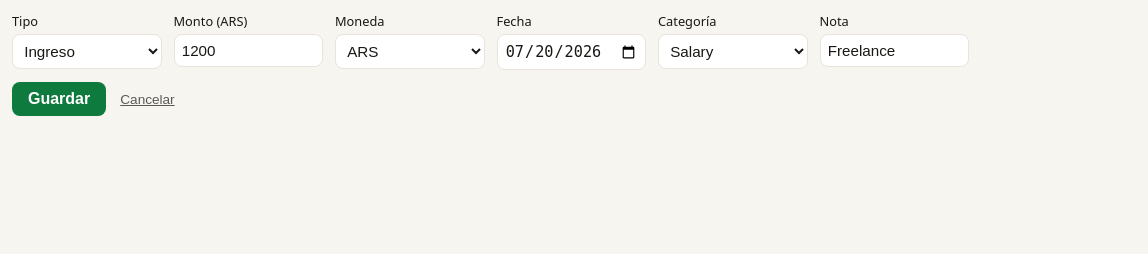
Scenario: TransactionForm › edit mode › still requires an FX rate when switching to USD in edit mode (W1)
The image size is (1148, 254).
Select "USD" in the dropdown with test id "currency" at [410, 52], box [335, 34, 484, 69]
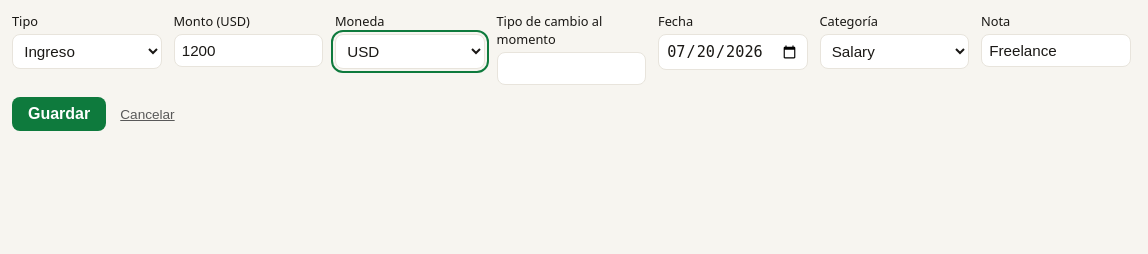
Click the button with test id "submit" at [59, 114], box [12, 97, 106, 131]
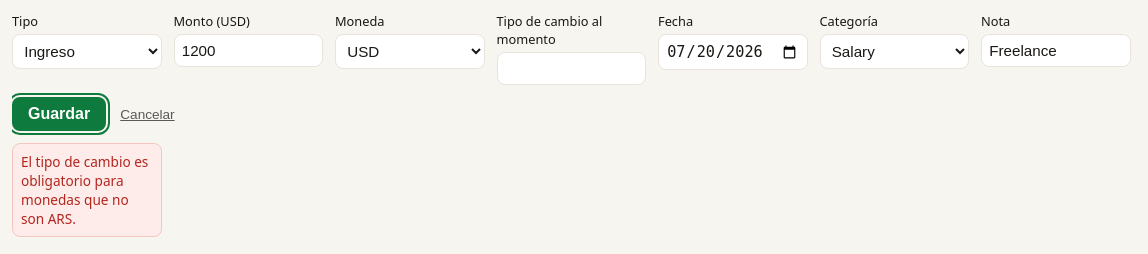
Expected: the text "El tipo de cambio es obligatorio para monedas que no son ARS." is shown, [21, 152, 152, 228]
